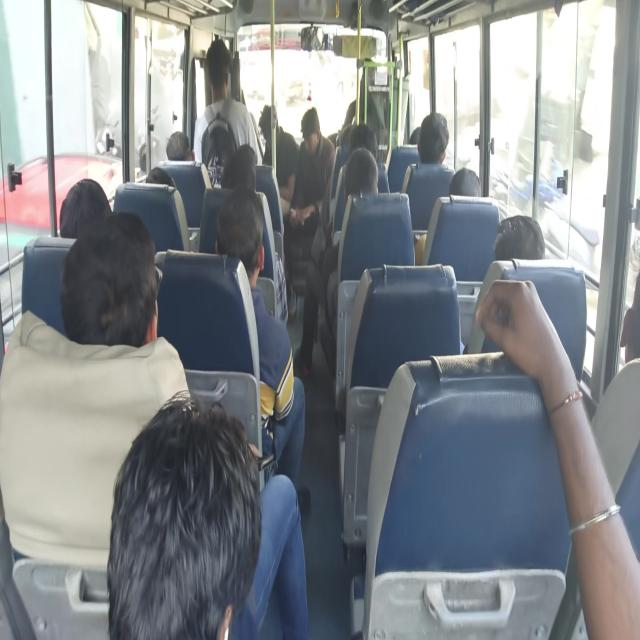person: (59, 210, 308, 638), (474, 278, 640, 638), (106, 391, 308, 638), (215, 187, 306, 491), (293, 146, 378, 376), (60, 210, 159, 348), (219, 143, 289, 324), (463, 214, 545, 354), (192, 38, 264, 184), (288, 106, 336, 306), (402, 111, 456, 232), (257, 103, 298, 215), (59, 177, 112, 238), (619, 234, 640, 364), (493, 214, 545, 261), (342, 93, 387, 146), (417, 111, 449, 165), (448, 167, 482, 197), (166, 131, 194, 161)
